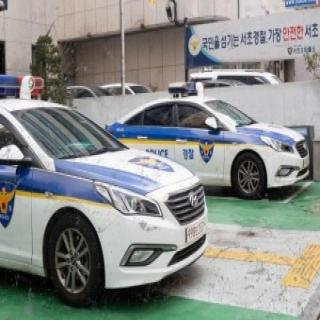Police_car: (0, 74, 211, 308), (103, 90, 311, 201)
